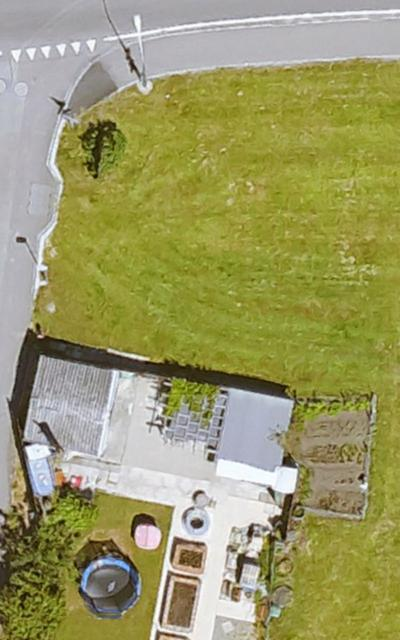tree: (1, 575, 63, 640)
